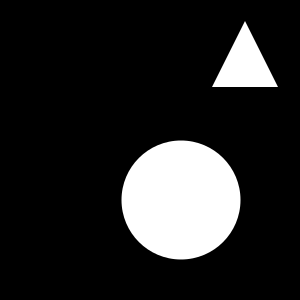rectangle: (122, 140, 241, 260)
triangle: (212, 21, 278, 87)
